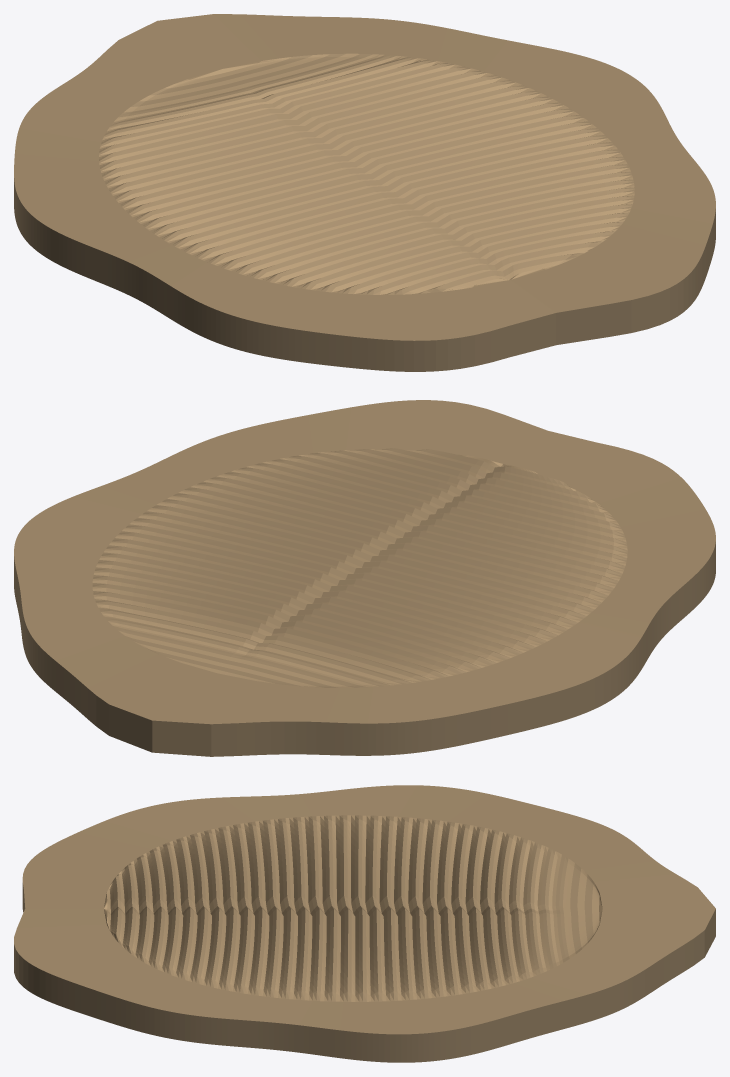
3 renders of one model, top to bottom at view 1: azimuth 30°, elevation 25°; view 2: azimuth 150°, elevation 25°; view 3: azimuth 270°, elevation 25°, orthographic. The views are drawn at different scales.
Parts seen in each view (by area): view 1: continuous_rib_aligned_Dickinsonia_fossil_mould_SAM_P47720_i; view 2: continuous_rib_aligned_Dickinsonia_fossil_mould_SAM_P47720_i; view 3: continuous_rib_aligned_Dickinsonia_fossil_mould_SAM_P47720_i.
Part boxes in pixels (box(x1,y1,x2,y2)): continuous_rib_aligned_Dickinsonia_fossil_mould_SAM_P47720_i: box(14, 14, 715, 371); continuous_rib_aligned_Dickinsonia_fossil_mould_SAM_P47720_i: box(14, 400, 715, 756); continuous_rib_aligned_Dickinsonia_fossil_mould_SAM_P47720_i: box(14, 785, 715, 1062).
Bounding box in the file's own units: 0.1542 × 0.00984 × 0.1829.
